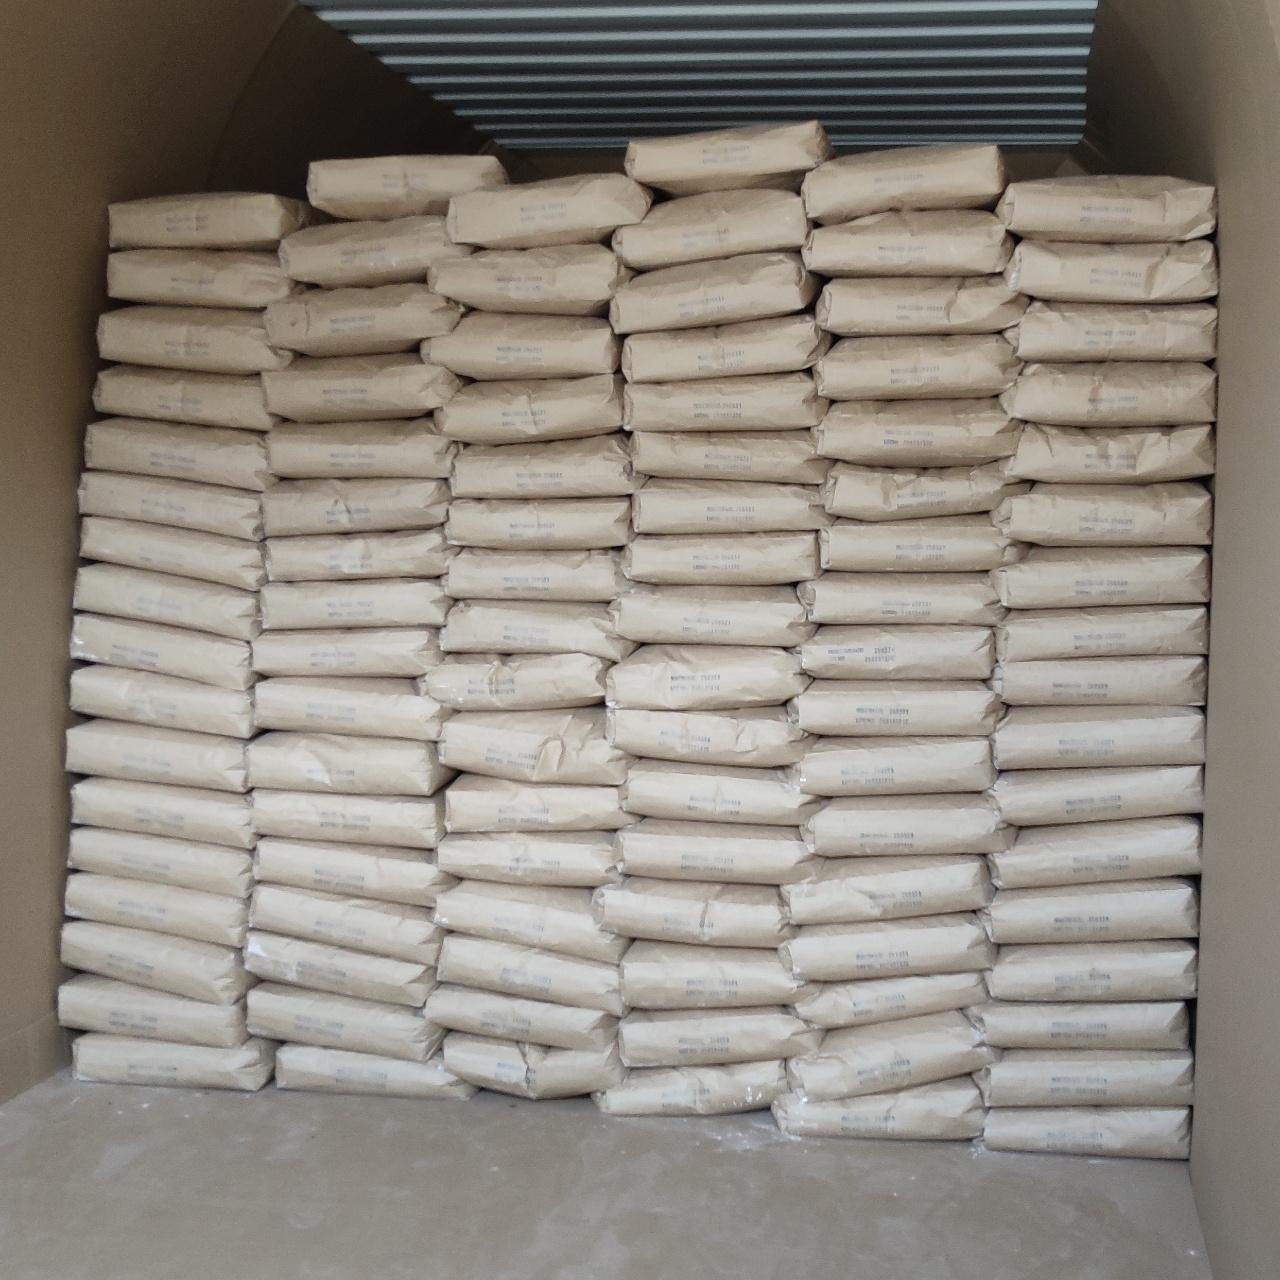sack: (788, 1012, 996, 1099), (611, 253, 819, 334), (611, 189, 811, 268), (801, 147, 1006, 224), (62, 921, 253, 1003), (447, 173, 653, 248), (624, 121, 832, 195), (435, 881, 624, 962), (987, 817, 1200, 888), (247, 982, 444, 1060), (248, 884, 440, 964), (437, 934, 622, 1015), (263, 282, 464, 356), (427, 243, 634, 314), (245, 930, 435, 1007), (438, 708, 628, 784), (995, 176, 1216, 241), (73, 564, 261, 640), (779, 914, 994, 981), (278, 215, 471, 288), (779, 856, 992, 922), (818, 397, 1020, 467), (982, 878, 1198, 942), (70, 614, 256, 689), (992, 482, 1211, 545), (86, 417, 273, 491), (802, 211, 1013, 277), (64, 872, 248, 947), (253, 837, 456, 905), (622, 314, 829, 381), (592, 877, 788, 947), (59, 974, 246, 1047), (263, 353, 463, 421), (70, 665, 254, 738), (1001, 362, 1216, 425), (420, 311, 619, 379), (80, 517, 265, 590), (771, 1076, 983, 1139), (801, 794, 1013, 857), (1005, 239, 1217, 302), (990, 547, 1210, 608), (64, 720, 247, 792), (97, 306, 295, 373), (607, 645, 809, 710), (990, 707, 1203, 769), (68, 828, 252, 899), (813, 334, 1017, 399), (982, 765, 1201, 825), (815, 275, 1029, 336), (247, 731, 452, 795), (435, 374, 622, 443), (72, 778, 254, 849), (617, 819, 816, 884), (1001, 423, 1214, 483), (621, 760, 818, 824), (307, 155, 508, 218), (449, 434, 644, 498), (425, 985, 617, 1050), (79, 472, 263, 540), (788, 679, 1005, 736), (973, 1050, 1193, 1107), (986, 941, 1196, 1000), (254, 678, 451, 740), (787, 737, 995, 796), (611, 586, 813, 646), (620, 1007, 823, 1067), (1005, 302, 1216, 360), (621, 941, 802, 1008), (624, 372, 829, 430), (607, 707, 812, 765), (94, 365, 273, 431), (440, 601, 635, 662), (443, 1032, 622, 1097), (996, 606, 1208, 661), (73, 1033, 275, 1090), (822, 462, 1019, 520), (266, 417, 455, 478), (108, 248, 300, 308), (251, 789, 444, 847), (632, 477, 829, 535), (821, 515, 1026, 570), (109, 193, 309, 248), (275, 1044, 476, 1099), (592, 1058, 787, 1115), (418, 653, 608, 710), (795, 972, 988, 1028), (445, 774, 629, 832), (263, 478, 450, 536), (796, 573, 1003, 625), (632, 430, 832, 483), (989, 656, 1207, 704), (983, 1107, 1189, 1157), (965, 1001, 1189, 1047), (622, 532, 819, 584), (798, 627, 994, 679), (265, 527, 456, 580), (438, 832, 619, 887), (443, 549, 629, 600), (447, 497, 631, 549), (260, 580, 452, 629), (251, 629, 443, 678)
